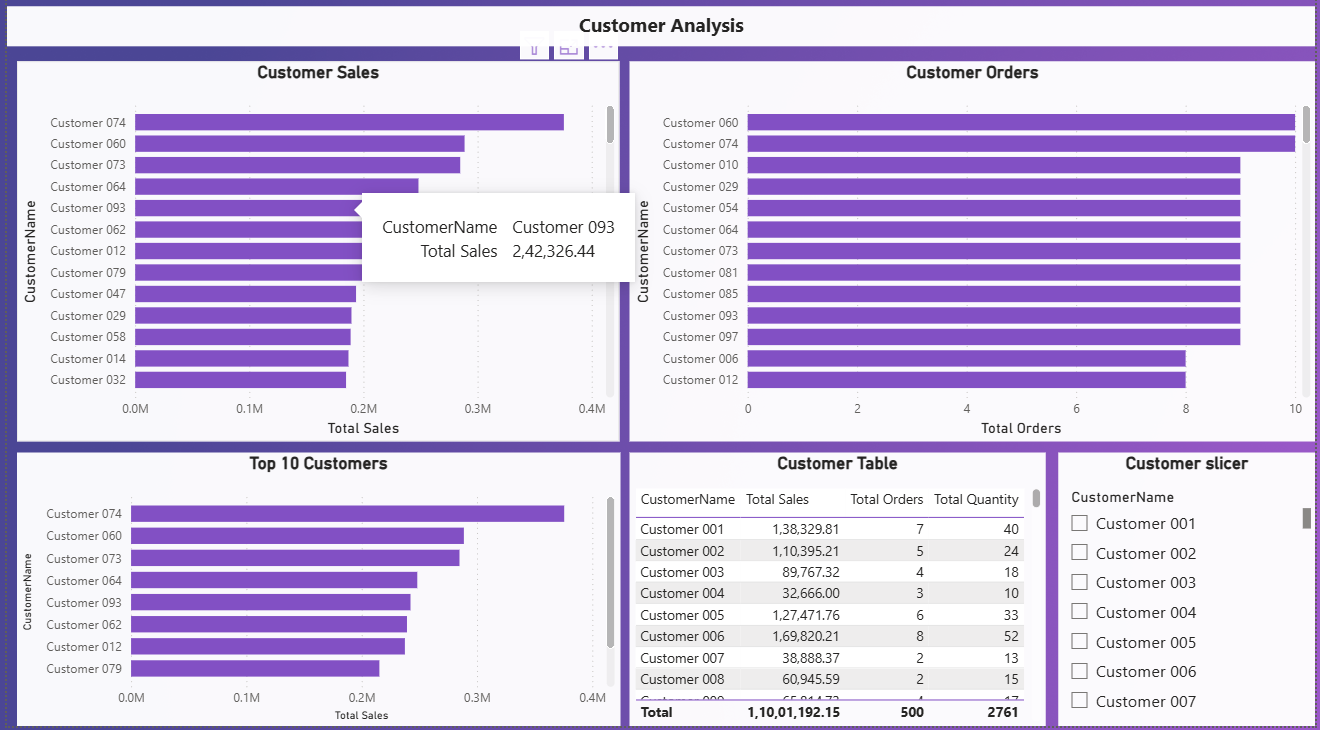

Layout of this report page (visuals, bound fields, positions):
{"tool":"powerbi","page":{"name":"CUSTOMER ANALYSIS","canvas":[1280,720],"ordinal":4},"visuals":[{"type":"barChart","title":"Customer Sales","fields":{"Category":["Customers.CustomerName"],"Y":["Orders.Total Sales"]},"box":[9.8,69.7,589.4,371.7],"z":0},{"type":"barChart","title":"Top 10 Customers","fields":{"Category":["Customers.CustomerName"],"Y":["Orders.Total Sales"]},"box":[10,452,590,268],"z":1000},{"type":"barChart","title":"Customer Orders","fields":{"Category":["Customers.CustomerName"],"Y":["Orders.Total Orders"]},"box":[609,69.7,671.3,371.7],"z":2000},{"type":"tableEx","title":"Customer Table","fields":{"Values":["Customers.CustomerName","Orders.Total Sales","Orders.Total Orders","Orders.Total Quantity"]},"box":[609,452.4,407.2,267.8],"z":3000},{"type":"slicer","title":"Customer slicer","fields":{"Values":["Customers.CustomerName"]},"box":[1028.4,452.4,251.9,267.8],"z":4000},{"type":"textbox","box":[0,15.9,1280.3,39.1],"z":4001}]}

Visuals, with their boxes in screenshot pixels (x1, y1, x2, y2), scaled from the page's 1280x720 canvas onto the 1320x730 screenshot:
"Customer Sales" barChart: BBox(10, 71, 618, 448)
"Top 10 Customers" barChart: BBox(10, 458, 619, 729)
"Customer Orders" barChart: BBox(628, 71, 1319, 448)
"Customer Table" tableEx: BBox(628, 459, 1048, 729)
"Customer slicer" slicer: BBox(1061, 459, 1319, 729)
textbox: BBox(0, 16, 1319, 56)
